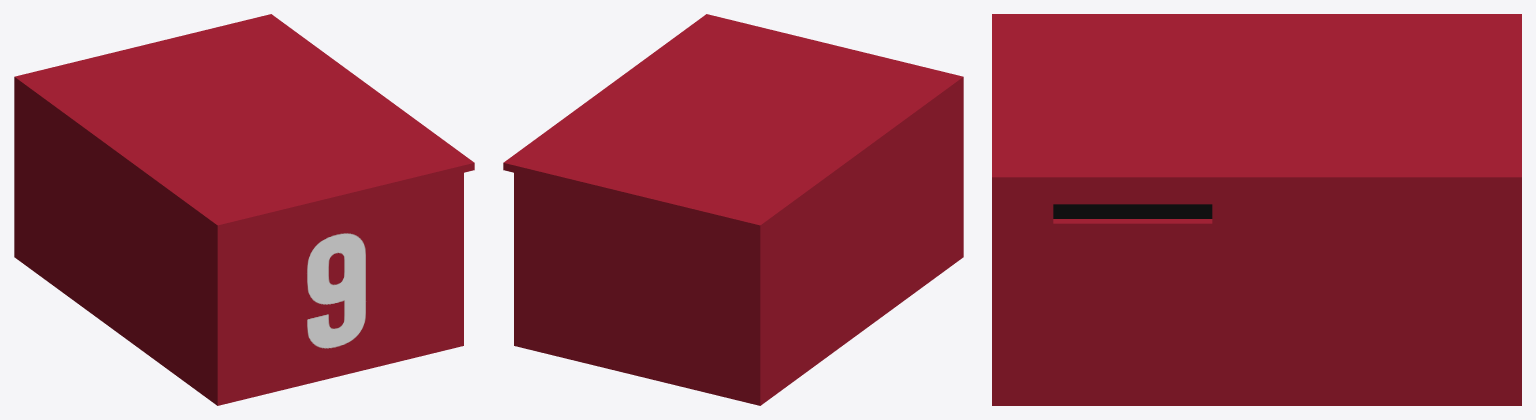
The model's file is SM_BancaCryuff.gltf.
The picture shows the model from 3 angles, left to right: view 1: azimuth 30°, elevation 25°; view 2: azimuth 150°, elevation 25°; view 3: azimuth 270°, elevation 25°; orthographic projection. The views are drawn at different scales.
Visible parts, largest first — view 1: Bench.001; view 2: Bench.001; view 3: Bench.001.
Part boxes in pixels (bbox=[...]): Bench.001: bbox=[14, 14, 474, 405]; Bench.001: bbox=[503, 14, 963, 405]; Bench.001: bbox=[992, 14, 1521, 405].
Size of the model in its own units: 0.73 by 0.49 by 1.
Materials: 1 (1 with a texture image).
